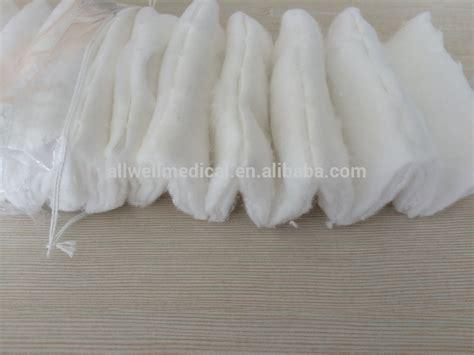cotton: (0, 1, 469, 229)
